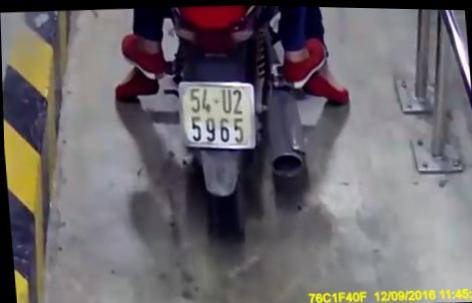LP: (172, 73, 259, 154)
